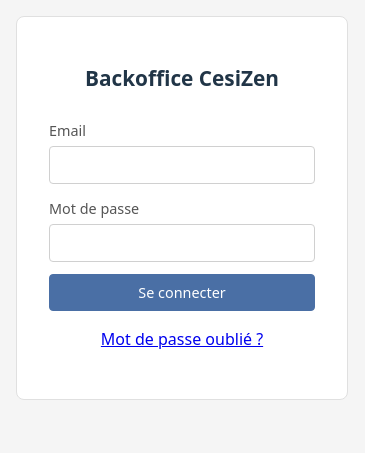
Test: Page de login › affiche une erreur avec des identifiants invalides
Type "inconnu@test.com" into the field at (182, 165), box [49,146,315,184]
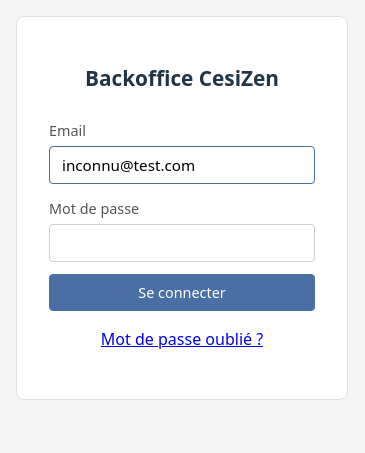
Type "mauvaismdp" into the password field at (182, 243), box [49,224,315,262]
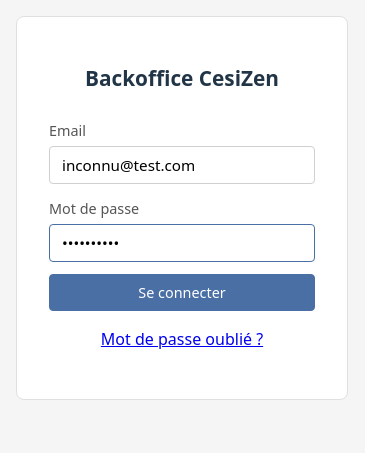
Click the submit button at (182, 293), box [49,274,315,311]
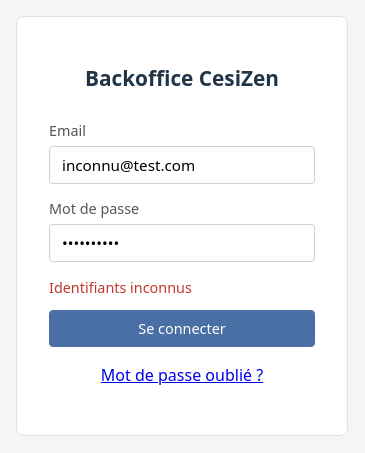
Expected: the text "Identifiants inconnus" is shown, [49,278,192,296]
